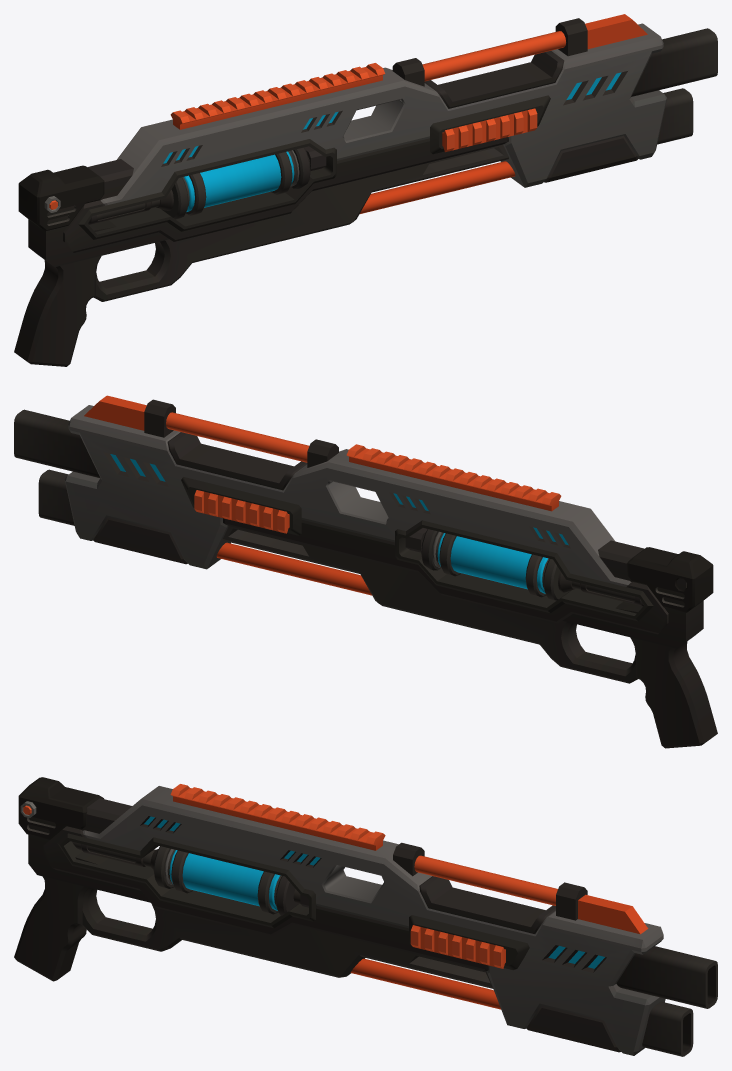
The picture shows the model from 3 angles, top to bottom: view 1: azimuth 30°, elevation 25°; view 2: azimuth 150°, elevation 25°; view 3: azimuth 330°, elevation 25°; orthographic projection.
Parts seen in each view (by area): view 1: MG2_Base; view 2: MG2_Base; view 3: MG2_Base.
Part boxes in pixels (x1,y1,x2,y2): MG2_Base: [14, 14, 717, 366]; MG2_Base: [14, 395, 717, 748]; MG2_Base: [14, 777, 717, 1056].
Bounding box in the file's own units: 85.51 × 25.85 × 7.81.
